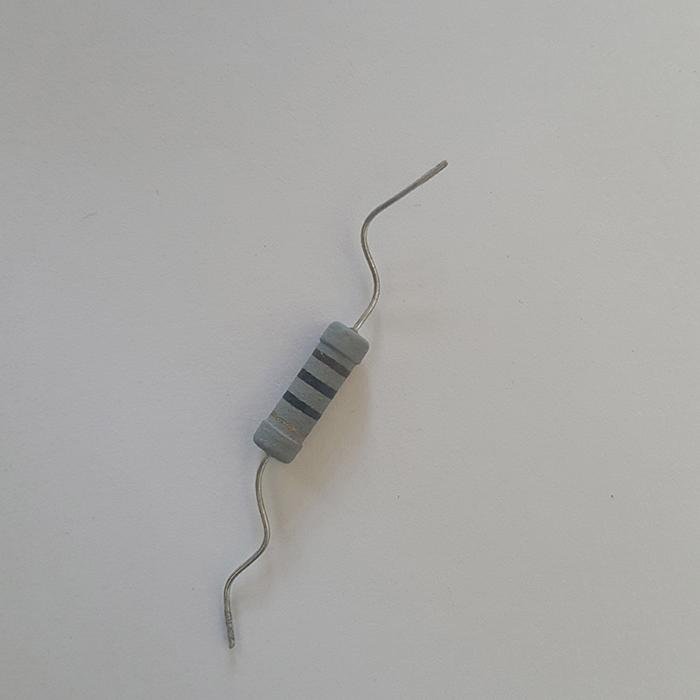resistor: (254, 319, 369, 464)
